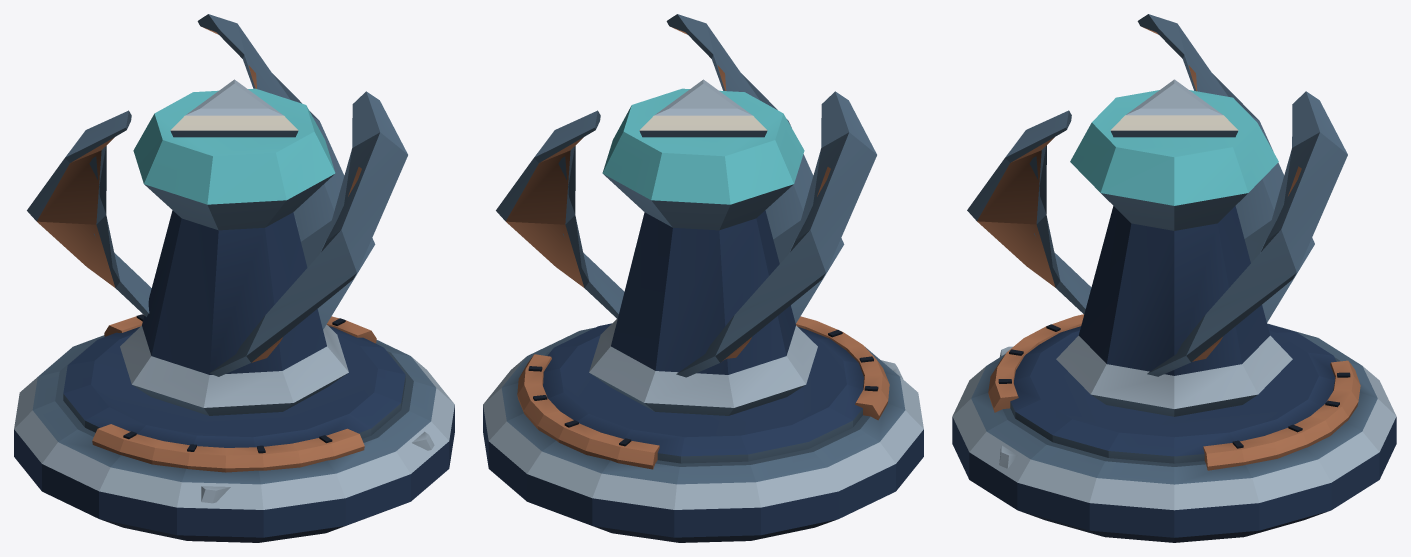
Rendered from twister.glb.
3 views of the same model, side by side, from view 1: azimuth 30°, elevation 25°; view 2: azimuth 150°, elevation 25°; view 3: azimuth 270°, elevation 25° (orthographic).
Parts seen in each view (by area): view 1: twister; view 2: twister; view 3: twister.
Part boxes in pixels (x1=…): twister: x1=14, y1=14, x2=454, y2=542; twister: x1=483, y1=14, x2=923, y2=542; twister: x1=952, y1=14, x2=1396, y2=542.
Bounding box in the file's own units: 1.02 × 0.998 × 1.02.
